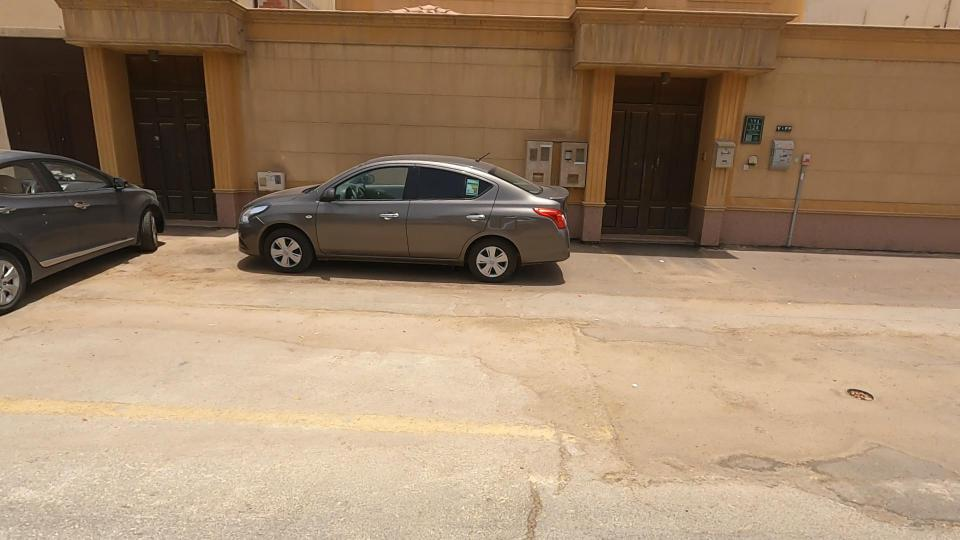POTHOLES: (449, 372, 719, 540), (634, 370, 888, 535), (791, 376, 960, 540), (470, 456, 574, 540)
